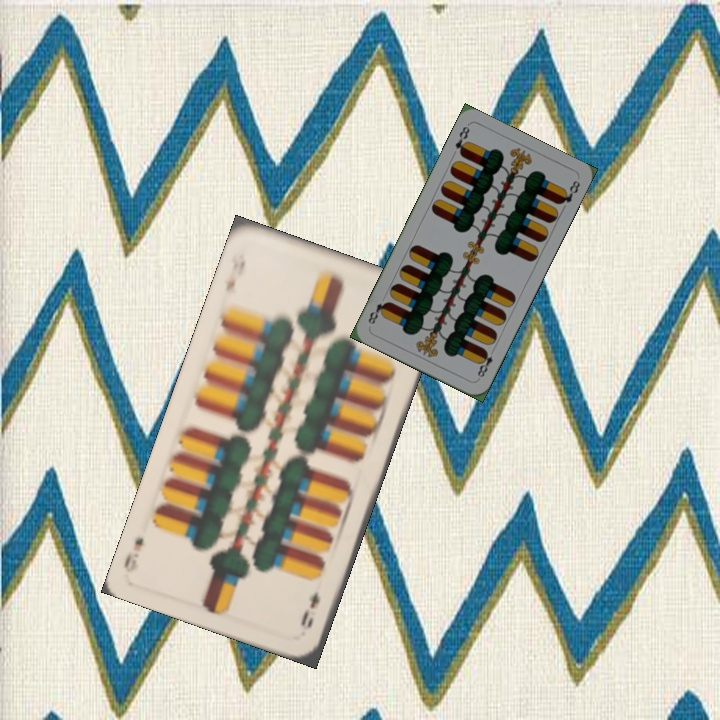E8: (473, 344, 498, 382), (451, 122, 472, 159)
E9: (221, 249, 248, 295), (296, 587, 322, 631)
